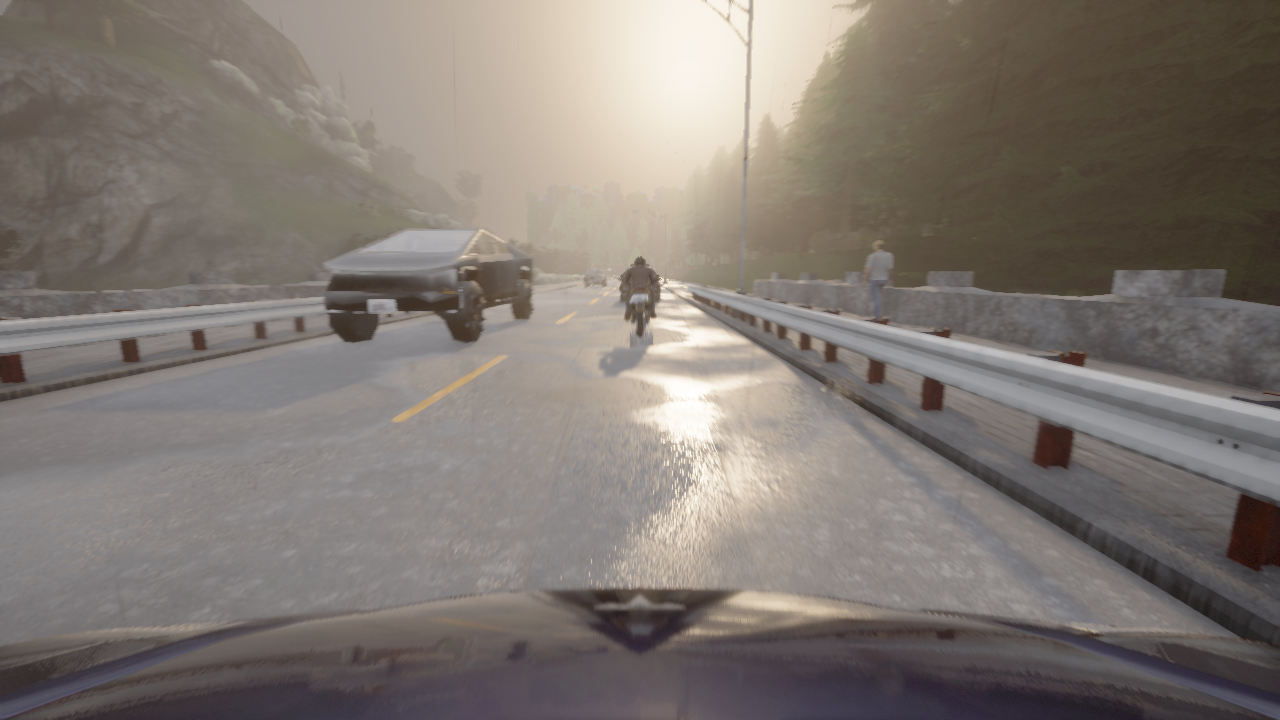cyclist: (0, 588, 1279, 719), (322, 228, 534, 343), (620, 279, 659, 338), (620, 265, 659, 301), (584, 268, 607, 286), (631, 264, 634, 265)
pedestrian: (862, 240, 891, 319)
